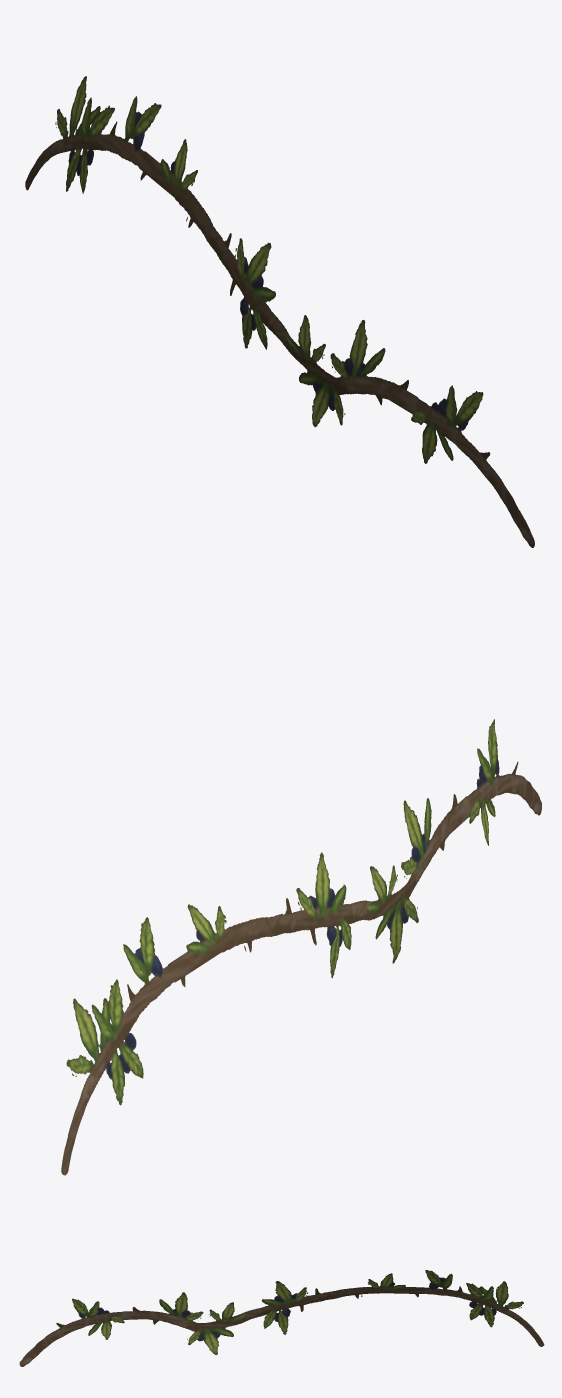
The model's file is Bramen3.fbx.
The picture shows the model from 3 angles, top to bottom: view 1: azimuth 30°, elevation 25°; view 2: azimuth 150°, elevation 25°; view 3: azimuth 270°, elevation 25°; orthographic projection. The views are drawn at different scales.
Visible parts, largest first — view 1: Bramen3; view 2: Bramen3; view 3: Bramen3.
Part boxes in pixels (<box>): Bramen3: <box>25,76,534,547</box>; Bramen3: <box>61,719,541,1175</box>; Bramen3: <box>19,1270,544,1366</box>.
Size of the model in its own units: 0.376 by 1.17 by 4.9.
1 material, 1 textured.
